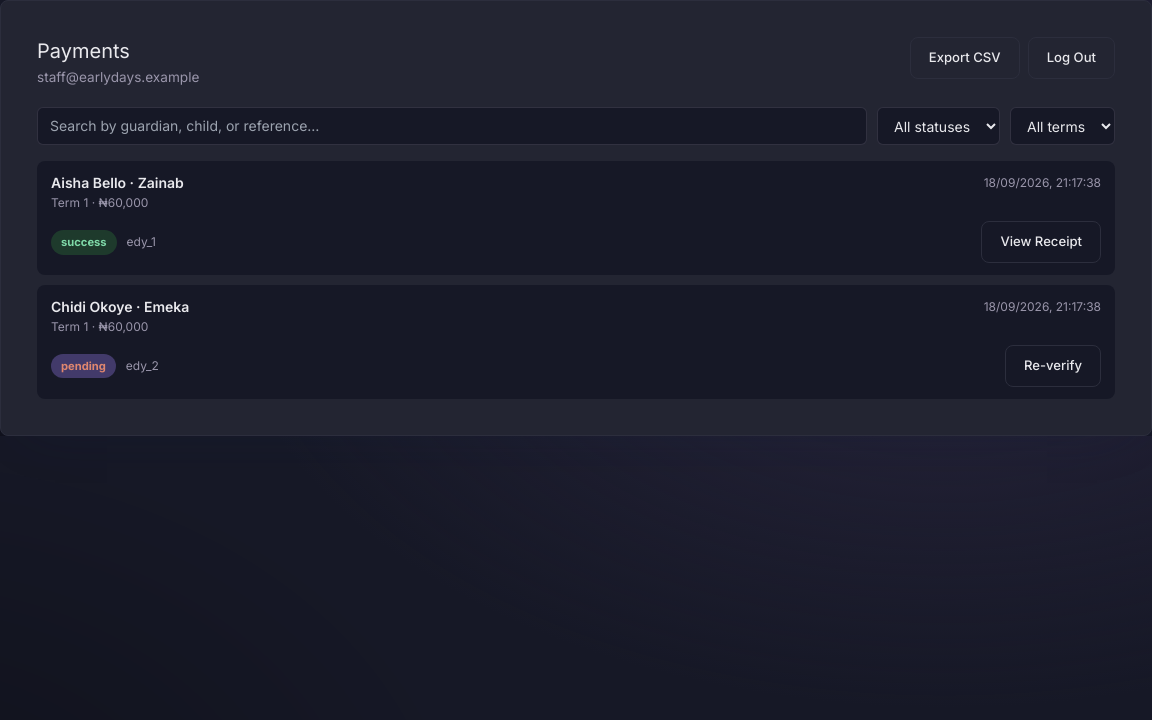
Test: AdminPaymentsPanel › narrows the list by the status filter
This screenshot has width=1152, height=720.
Expected: the text "Aisha Bello · Zainab" is shown, [51,173,184,193]
Step 1. Select "pending" in the dropdown named "Filter by status" → (938, 126), box [877,107,1000,145]
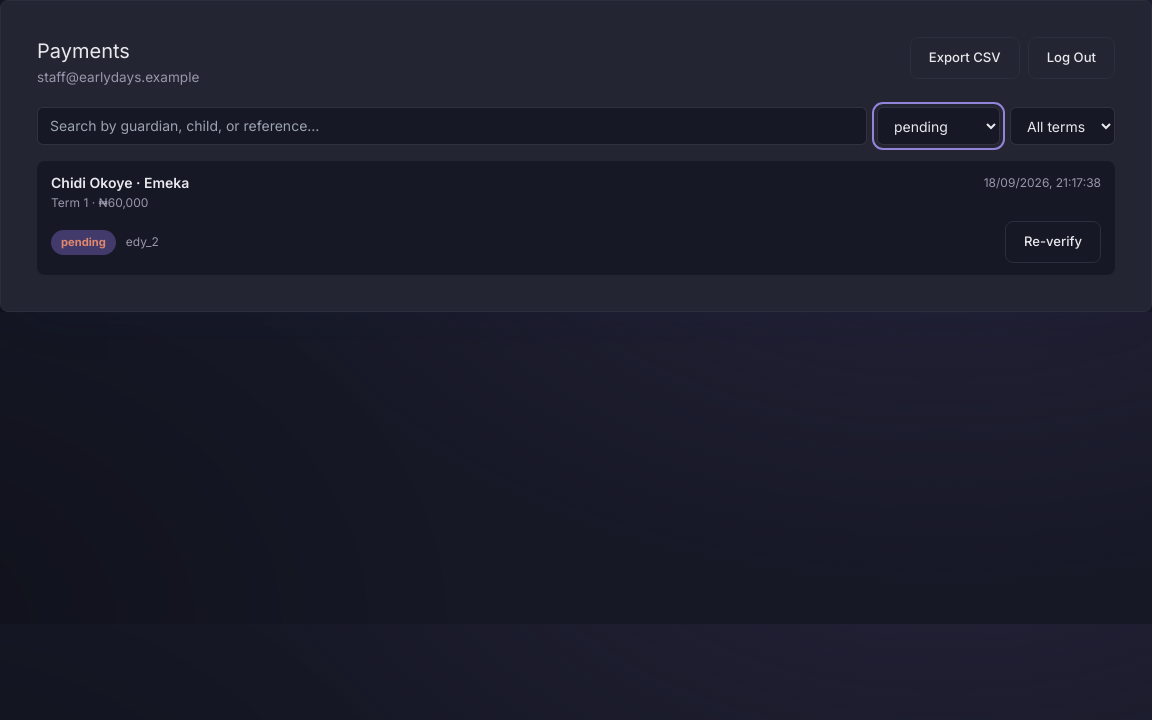
Expected: the text "Chidi Okoye · Emeka" is shown, [51,173,189,193]
Expected: the text "Aisha Bello · Zainab" is gone
